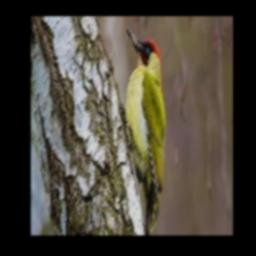Woodpecker: (119, 28, 167, 235)
